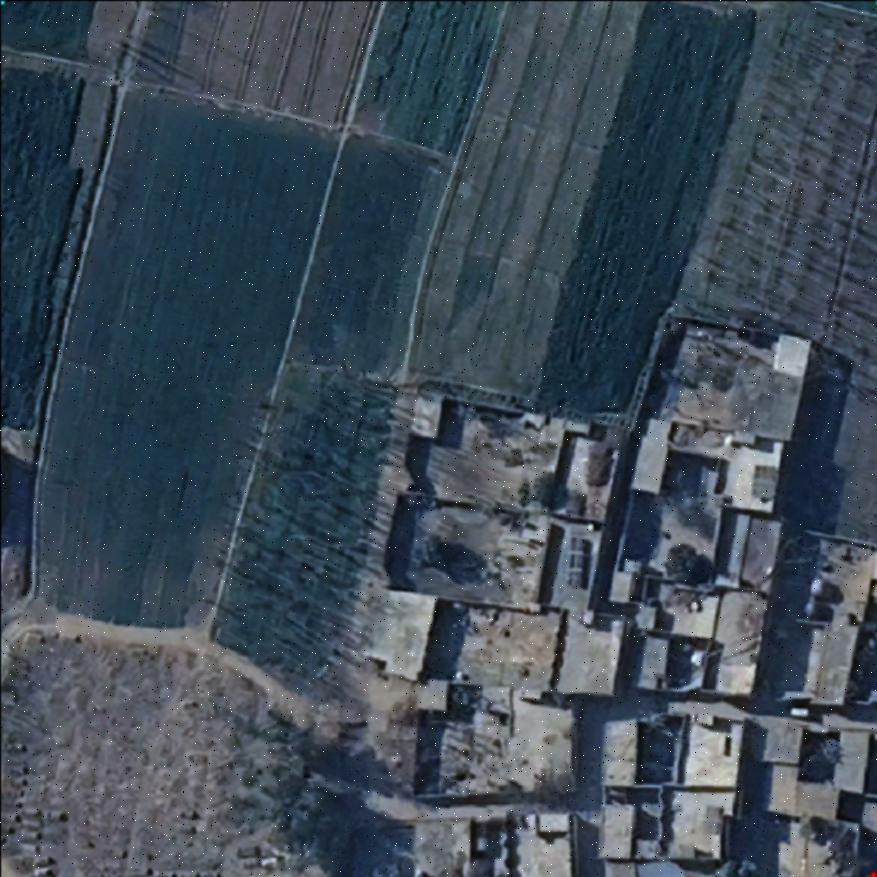Solarpanel: (564, 532, 590, 592)
